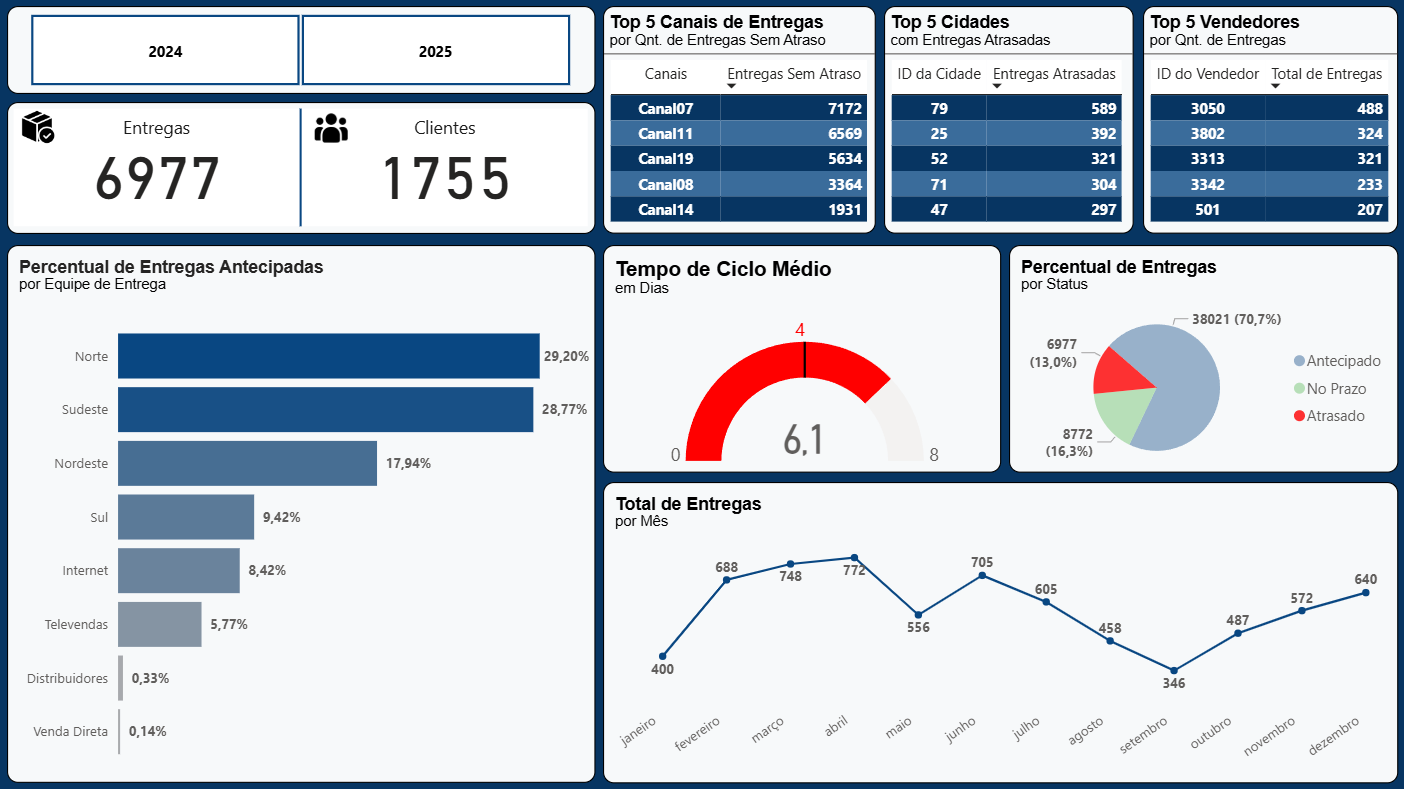

What the dashboard file says about the page in this screenshot:
{"tool":"powerbi","page":{"name":"Dashboard","canvas":[1280,720],"ordinal":0},"visuals":[{"type":"tableEx","title":"Top 5 Canais de Entregas","fields":{"Values":["Logistica.Canal_Entrega","Tabela.Entregas_no_Prazo"]},"box":[550,7.3,248.2,207.3],"z":0},{"type":"barChart","title":"Percentual de Entregas Antecipadas","fields":{"Category":["Logistica.Equipe_Entrega"],"Y":["Medidas.Entregas_Antecipadas"]},"box":[8.2,224.5,535.5,489.1],"z":1000},{"type":"lineChart","title":"Total de Entregas","fields":{"Y":["Medidas.Total_Entregas"],"Category":["Logistica.Data_Entrega_Realizada.Variation.Hierarquia de datas.Mês"]},"box":[550,440,722.7,273.6],"z":2000},{"type":"tableEx","title":"Top 5 Vendedores","fields":{"Values":["Logistica.ID_Vendedor","Tabela.Total_Entregas"]},"box":[1040.9,7.3,231.8,207.3],"z":3000},{"type":"tableEx","title":"Top 5 Cidades","fields":{"Values":["Logistica.ID_Cidade","Tabela.Entragas_Atrasadas"]},"box":[805.5,7.3,227.3,207.3],"z":4000},{"type":"pieChart","title":"Percentual de Entregas","fields":{"Category":["Logistica.Status_Entrega"],"Y":["Divide(CountNonNull(Logistica.Status_Entrega), ScopedEval(CountNonNull(Logistica.Status_Entrega), []))"]},"box":[919.1,224.5,353.6,207.3],"z":5000},{"type":"gauge","title":"Tempo de Ciclo Médio","fields":{"Y":["Avg(Logistica.Dias_Entrega)"]},"box":[550,224.5,361.8,207.3],"z":6000},{"type":"cardVisual","title":"Entregas","fields":{"Data":["Medidas.Total_Entregas","Count(Logistica.ID_Cliente)"]},"box":[8.2,94.9,535.5,119.6],"z":7000,"group":"g1"},{"type":"slicer","title":"Selecione o Período","fields":{"Values":["Logistica.Data_Entrega_Realizada.Variation.Hierarquia de datas.Ano"]},"box":[8.2,7.3,534.5,80],"z":8000},{"type":"image","box":[8.2,94.5,55.4,46],"z":9000,"group":"g1"},{"type":"image","box":[280.6,98.1,44.7,39.7],"z":10000,"group":"g1"},{"type":"group","id":"g1","title":"Grupo 1","box":[8.2,94.5,535.5,120],"z":10001}]}

Visuals, with their boxes in screenshot pixels (x1, y1, x2, y2), scaled from the page's 1280x720 canvas onto the 1404x789 screenshot:
"Top 5 Canais de Entregas" tableEx: x1=603, y1=8, x2=876, y2=235
"Percentual de Entregas Antecipadas" barChart: x1=9, y1=246, x2=596, y2=782
"Total de Entregas" lineChart: x1=603, y1=482, x2=1396, y2=782
"Top 5 Vendedores" tableEx: x1=1142, y1=8, x2=1396, y2=235
"Top 5 Cidades" tableEx: x1=884, y1=8, x2=1133, y2=235
"Percentual de Entregas" pieChart: x1=1008, y1=246, x2=1396, y2=473
"Tempo de Ciclo Médio" gauge: x1=603, y1=246, x2=1000, y2=473
"Entregas" cardVisual: x1=9, y1=104, x2=596, y2=235
"Selecione o Período" slicer: x1=9, y1=8, x2=595, y2=96
image: x1=9, y1=104, x2=70, y2=154
image: x1=308, y1=108, x2=357, y2=151
"Grupo 1" group: x1=9, y1=104, x2=596, y2=235
